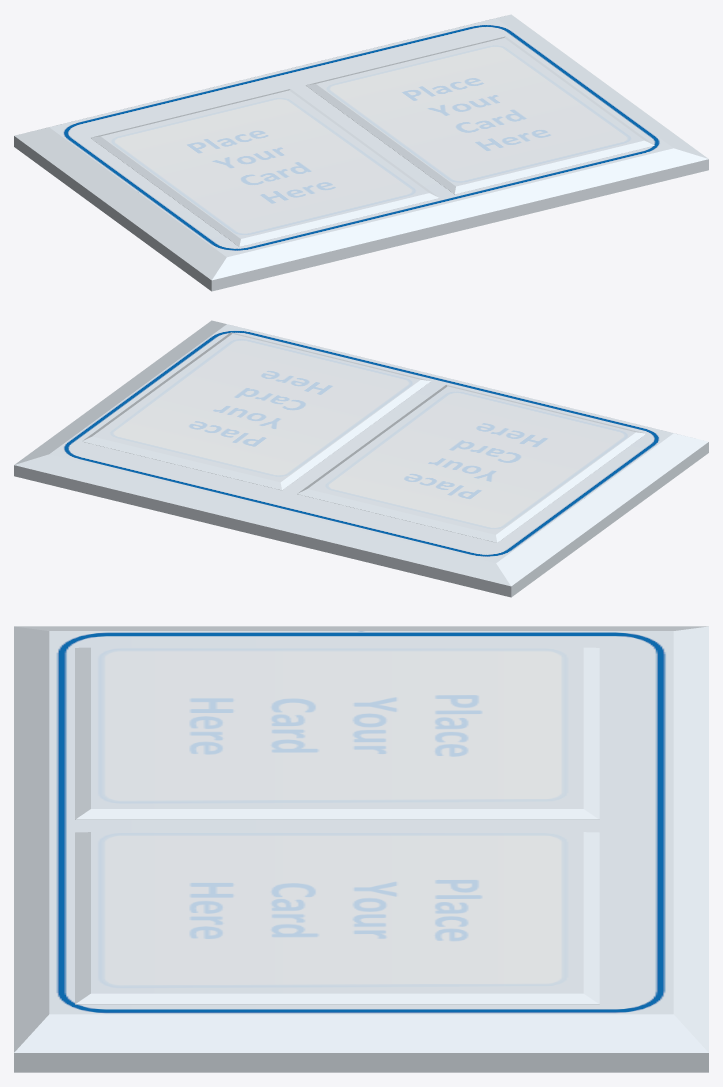
File: subtopic.fbx
3 views of the same model, one above another, from view 1: azimuth 30°, elevation 25°; view 2: azimuth 150°, elevation 25°; view 3: azimuth 270°, elevation 25° (orthographic). The views are drawn at different scales.
Visible parts, largest first — view 1: Cube, Cube.002, Cube.001; view 2: Cube, Cube.001, Cube.002; view 3: Cube, Cube.002, Cube.001.
Boxes of the visible parts, left/top/right/bottom form: Cube: left=14, top=14, right=708, bottom=291; Cube.002: left=305, top=36, right=654, bottom=194; Cube.001: left=90, top=89, right=439, bottom=246; Cube: left=14, top=320, right=708, bottom=597; Cube.001: left=297, top=385, right=646, bottom=542; Cube.002: left=82, top=332, right=430, bottom=490; Cube: left=14, top=626, right=708, bottom=1072; Cube.002: left=75, top=832, right=599, bottom=1004; Cube.001: left=75, top=647, right=599, bottom=819.
Bounding box in the file's own units: 506 × 23.38 × 348.
